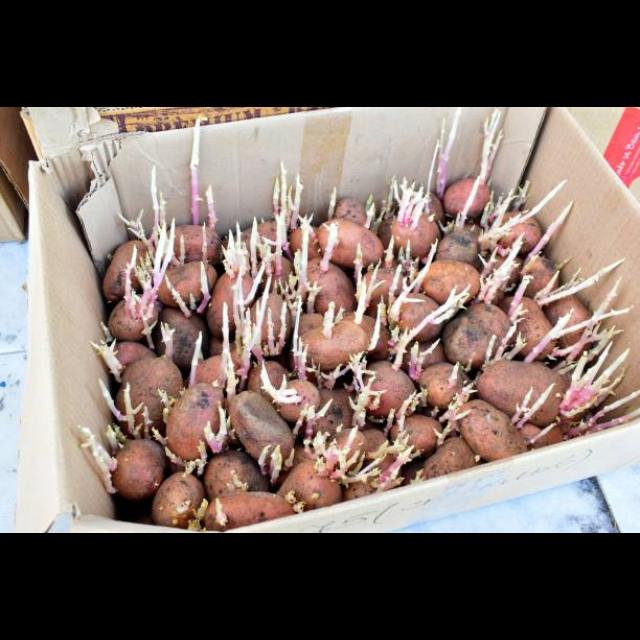Sprouted potato: (478, 338, 598, 426), (160, 335, 237, 469), (133, 161, 234, 261), (438, 251, 522, 367), (219, 367, 309, 473), (100, 328, 184, 432), (499, 270, 585, 366), (82, 409, 166, 497), (349, 335, 427, 423), (205, 217, 263, 335), (447, 398, 539, 464), (184, 477, 308, 525), (288, 300, 380, 364), (136, 237, 220, 305), (86, 222, 154, 304), (212, 189, 298, 253), (143, 448, 209, 528), (421, 185, 492, 258), (387, 257, 447, 341), (282, 432, 348, 508), (419, 242, 501, 302), (316, 202, 386, 266), (247, 267, 296, 355), (546, 276, 600, 352), (381, 394, 449, 454), (380, 186, 440, 252), (431, 155, 497, 215), (478, 198, 552, 250), (278, 350, 328, 422), (526, 208, 566, 292), (416, 350, 474, 406), (326, 177, 374, 235)
